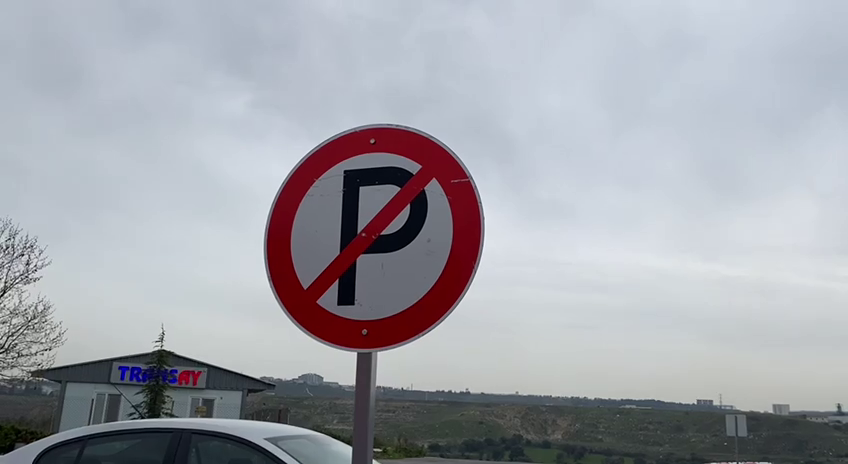noparking: (251, 114, 493, 357)
